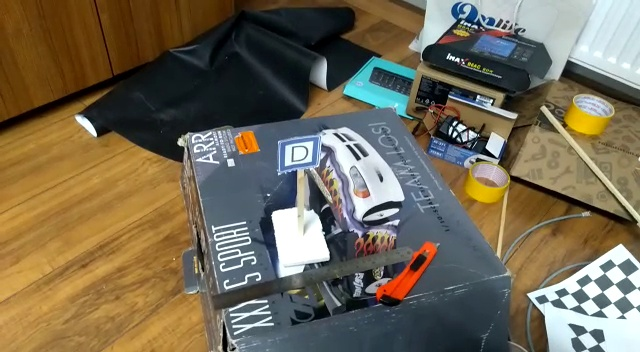durak: (274, 133, 322, 176)
